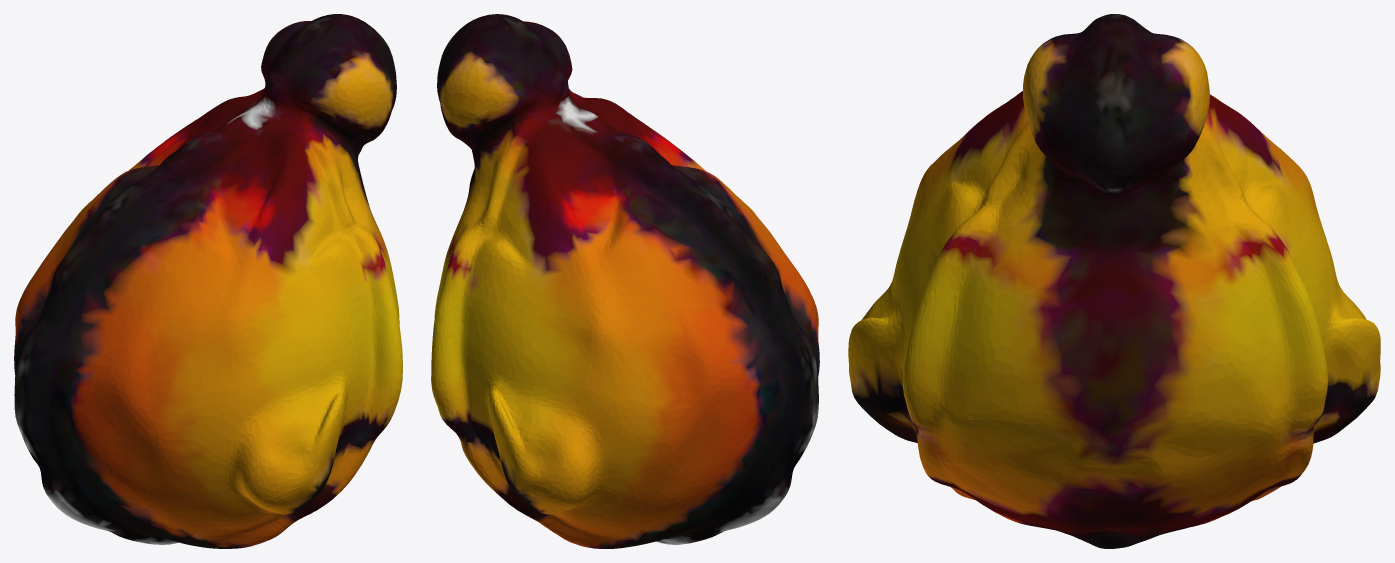
The model's file is potioncha.glb.
3 views of the same model, side by side, from view 1: azimuth 30°, elevation 25°; view 2: azimuth 150°, elevation 25°; view 3: azimuth 270°, elevation 25° (orthographic). The views are drawn at different scales.
Parts seen in each view (by area): view 1: geometry_0; view 2: geometry_0; view 3: geometry_0.
Boxes of the visible parts, x1,y1,x2,y2 form: geometry_0: (14,14,402,548); geometry_0: (431,14,819,548); geometry_0: (848,14,1380,548).
Size of the model in its own units: 0.375 by 0.4627 by 0.3744.
